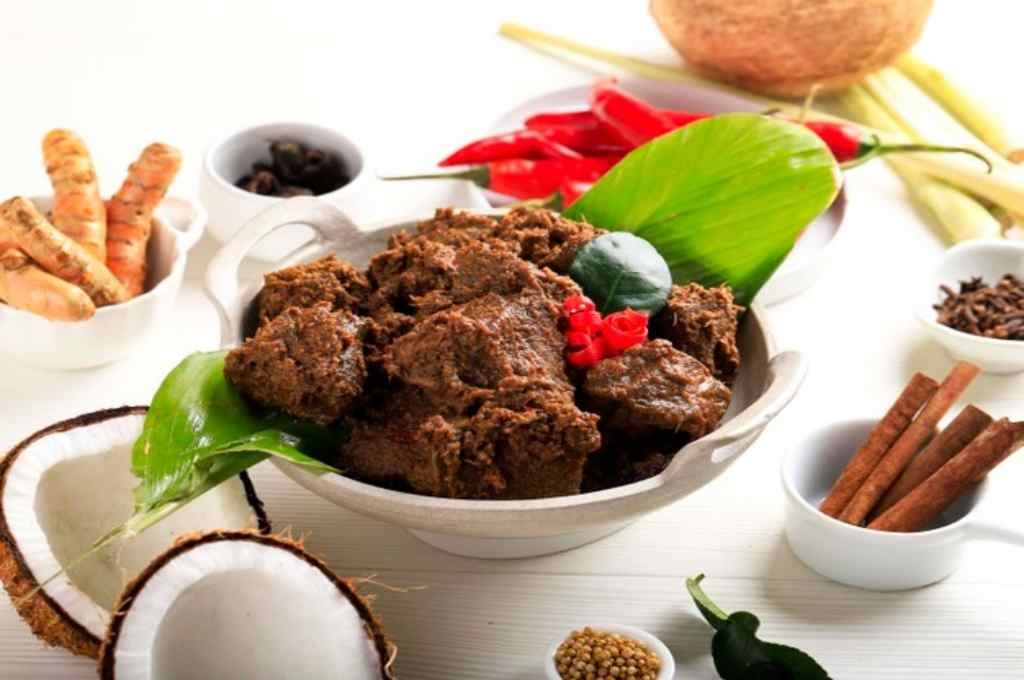rendang: (195, 211, 739, 478)
